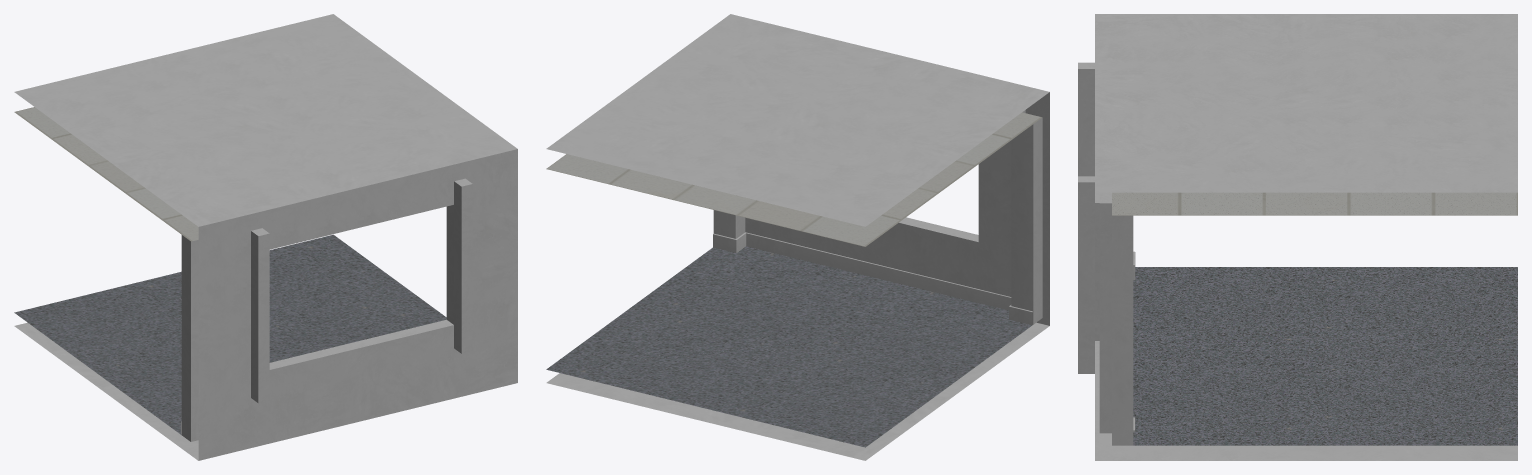
Rendered from SM_HallwayMesh_01_Mid_Side.fbx.
The picture shows the model from 3 angles, left to right: view 1: azimuth 30°, elevation 25°; view 2: azimuth 150°, elevation 25°; view 3: azimuth 270°, elevation 25°; orthographic projection. The views are drawn at different scales.
Parts seen in each view (by area): view 1: SM_HallwayMesh_01_Mid_Side_LOD0; view 2: SM_HallwayMesh_01_Mid_Side_LOD0; view 3: SM_HallwayMesh_01_Mid_Side_LOD0.
Part boxes in pixels (x1,y1,x2,y2): SM_HallwayMesh_01_Mid_Side_LOD0: [14, 14, 517, 460]; SM_HallwayMesh_01_Mid_Side_LOD0: [546, 14, 1049, 460]; SM_HallwayMesh_01_Mid_Side_LOD0: [1078, 14, 1517, 460].
Size of the model in its own units: 500 by 520 by 350.
Materials: 5 (5 with a texture image).
